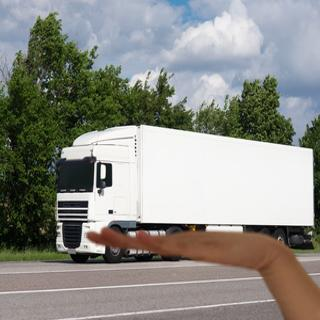WAIT: (86, 218, 281, 273)
